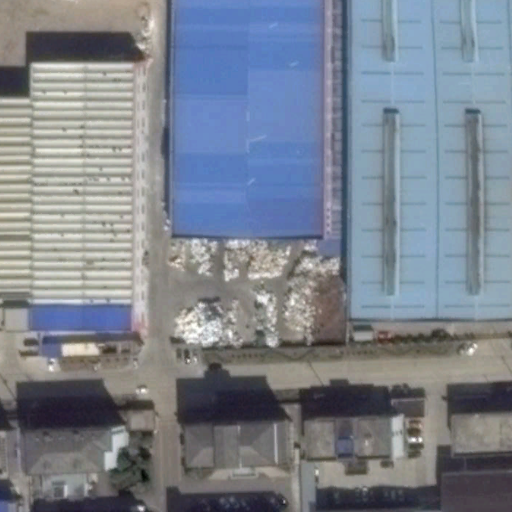msw: (165, 236, 342, 347)
